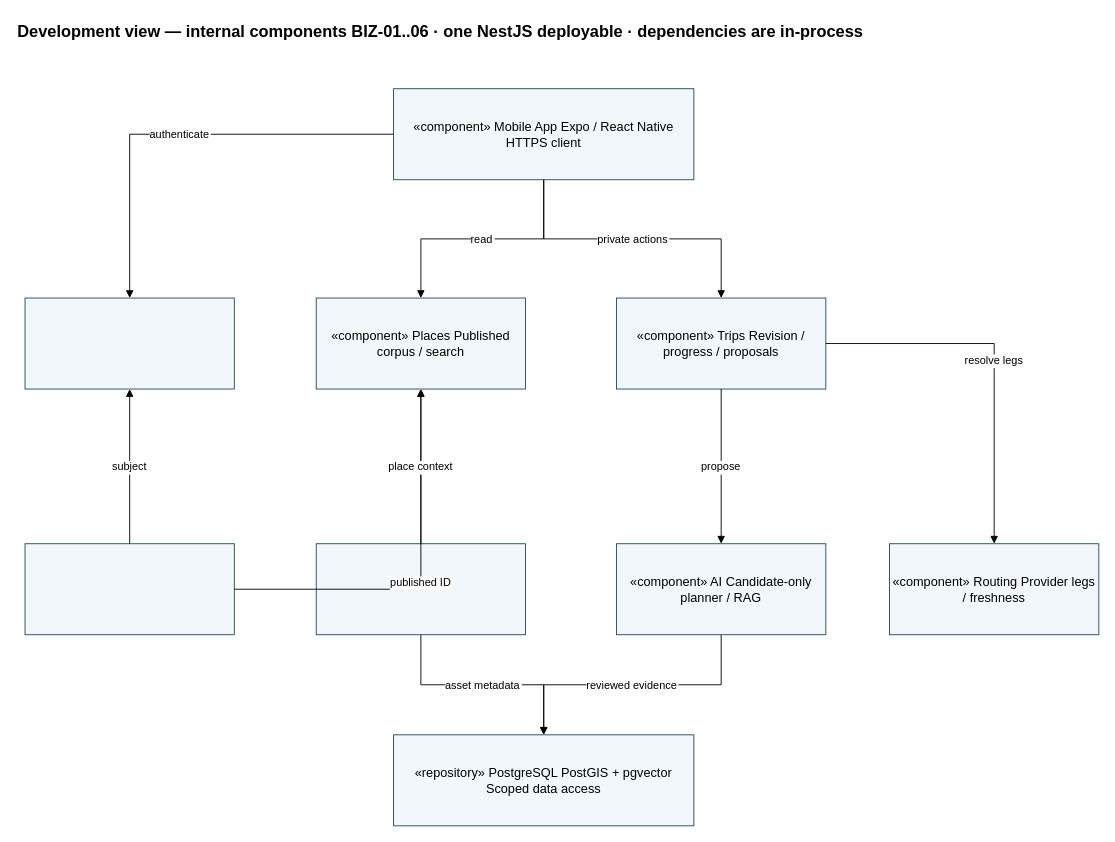
Image size: 1115x842. Some labels were removed from this diagram. The centre of each missing label's shape, as x and y in pixels:
«component» Guides Reviewed media metadata: the point at 420,589
«component» Identity Sessions / ownership: the point at 129,343
«component» Saved Owner-scoped bookmarks: the point at 129,589
